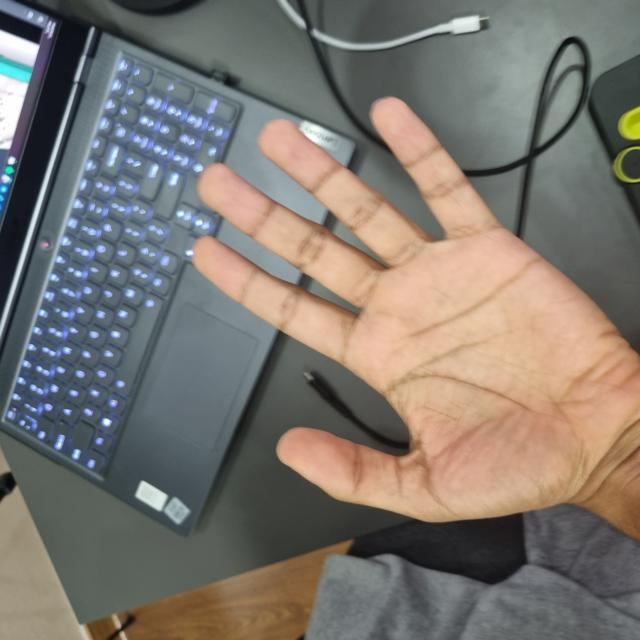Paper: (117, 196, 539, 639)
